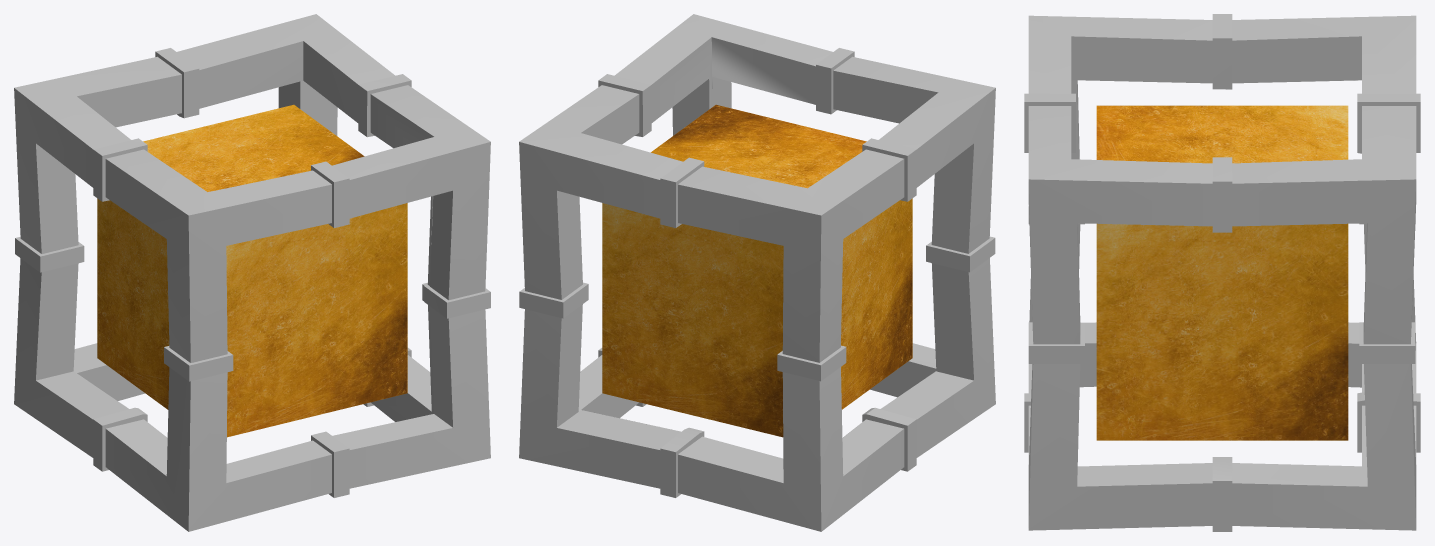
Rendered from exitCube.FBX.
3 renders of one model, left to right at view 1: azimuth 30°, elevation 25°; view 2: azimuth 150°, elevation 25°; view 3: azimuth 270°, elevation 25°, orthographic. The views are drawn at different scales.
Parts seen in each view (by area): view 1: exitCube; view 2: exitCube; view 3: exitCube.
Boxes of the visible parts, box(x1,y1,x2,y2) form: exitCube: box(14, 14, 490, 531); exitCube: box(519, 14, 995, 531); exitCube: box(1024, 14, 1420, 531).
Size of the model in its own units: 40.29 by 39.37 by 40.29.
